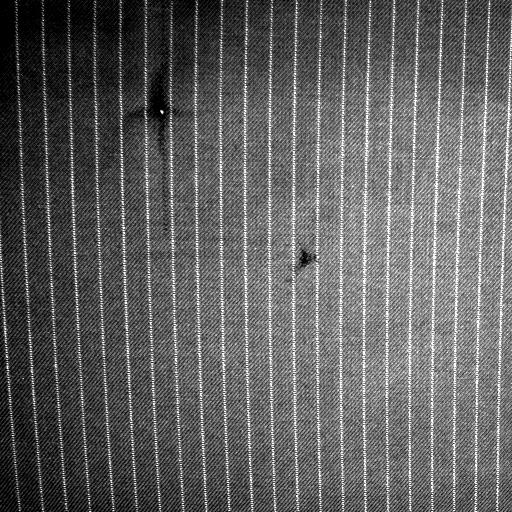fabric_hole: (143, 90, 183, 136), (294, 238, 320, 280)
